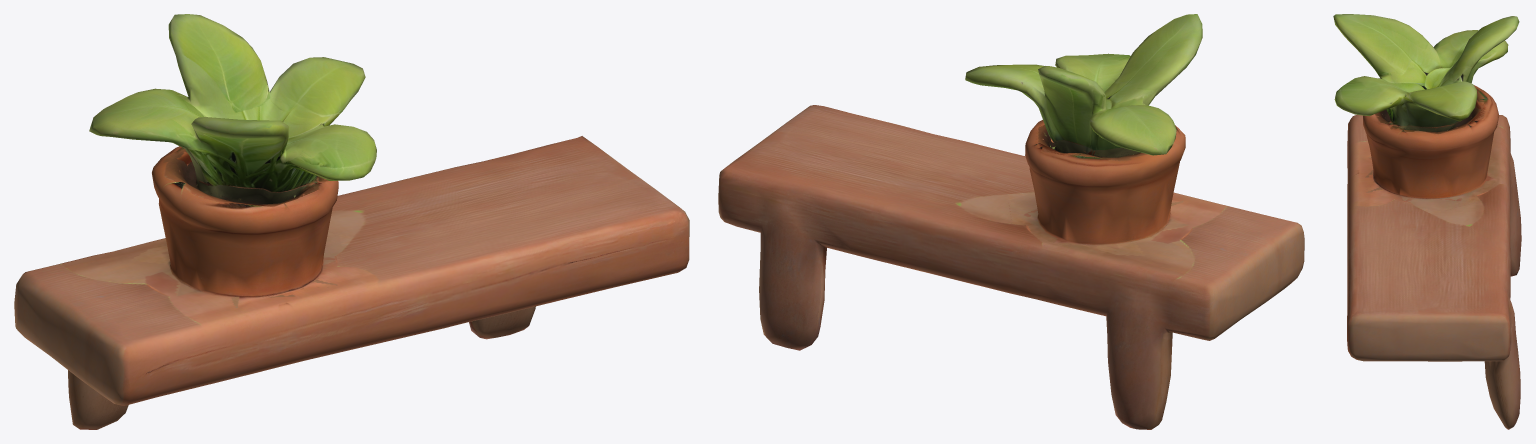
The model's file is wall_plant.glb.
3 views of the same model, side by side, from view 1: azimuth 30°, elevation 25°; view 2: azimuth 150°, elevation 25°; view 3: azimuth 270°, elevation 25° (orthographic). The views are drawn at different scales.
Bounding box in the file's own units: 1.74 × 1.15 × 0.6736.
1 material, 1 textured.
